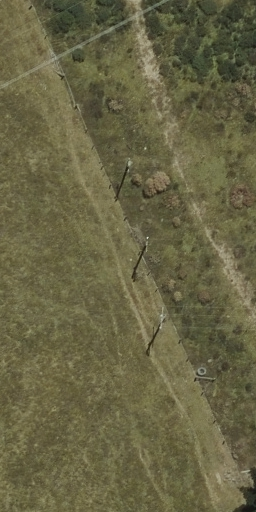DT: (154, 302, 169, 334), (138, 233, 154, 255), (122, 153, 137, 175)
